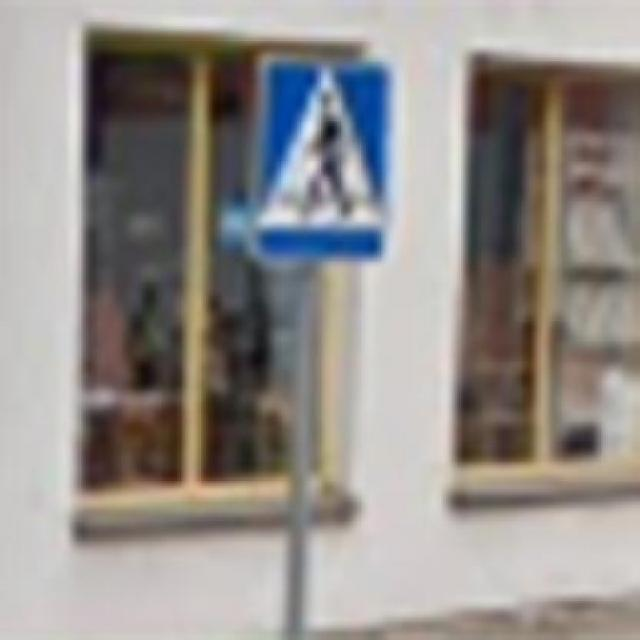Przejscie dla pieszych: (247, 52, 395, 265)
